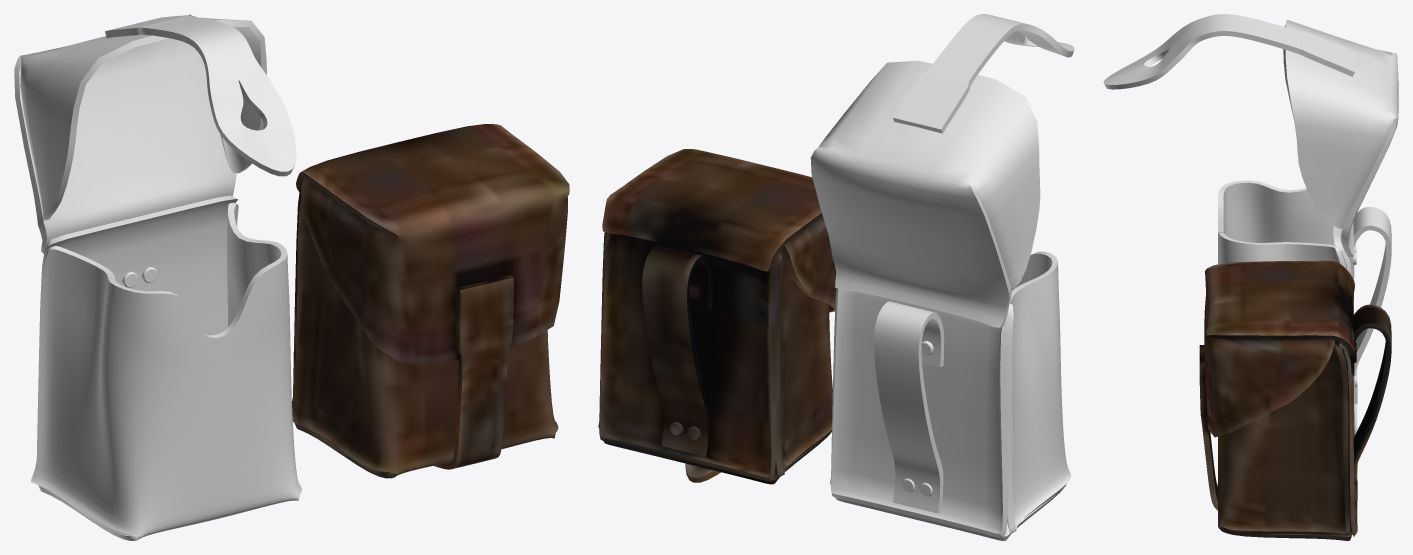
The model's file is GermanPouch_openAndClosed.fbx.
3 views of the same model, side by side, from view 1: azimuth 30°, elevation 25°; view 2: azimuth 150°, elevation 25°; view 3: azimuth 270°, elevation 25° (orthographic). The views are drawn at different scales.
Visible parts, largest first — view 1: base.001, lid, lid.001, base, Plane.002, strap.001, strap; view 2: lid.001, Plane.001, Plane.002, lid, base.001, clip, clip.001, base, strap.001; view 3: lid, base, lid.001, base.001, strap.001, clip, clip.001, Plane.001, strap, Plane.002.
Boxes of the visible parts, x1,y1,x2,y2 form: base.001: [31, 202, 302, 540]; lid: [296, 124, 569, 364]; lid.001: [14, 14, 266, 253]; base: [292, 195, 558, 478]; Plane.002: [36, 195, 237, 458]; strap.001: [105, 15, 296, 176]; strap: [433, 275, 513, 469]; lid.001: [810, 60, 1040, 327]; Plane.001: [599, 232, 780, 481]; Plane.002: [831, 288, 1013, 537]; lid: [602, 149, 836, 312]; base.001: [830, 251, 1071, 540]; clip: [642, 245, 712, 456]; clip.001: [874, 301, 944, 513]; base: [598, 249, 832, 484]; strap.001: [893, 14, 1074, 133]; lid: [1204, 260, 1354, 437]; base: [1218, 343, 1352, 540]; lid.001: [1283, 19, 1398, 256]; base.001: [1218, 180, 1346, 268]; strap.001: [1103, 14, 1354, 89]; clip: [1347, 304, 1391, 501]; clip.001: [1349, 207, 1391, 403]; Plane.001: [1334, 340, 1357, 536]; strap: [1199, 345, 1217, 510]; Plane.002: [1333, 225, 1357, 435].
Bounding box in the file's own units: 581 × 619 × 409.
